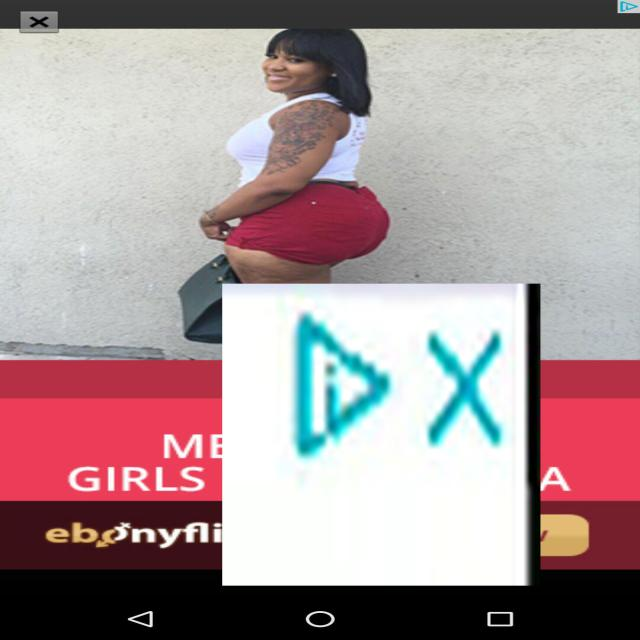sneaking: (222, 284, 540, 586)
